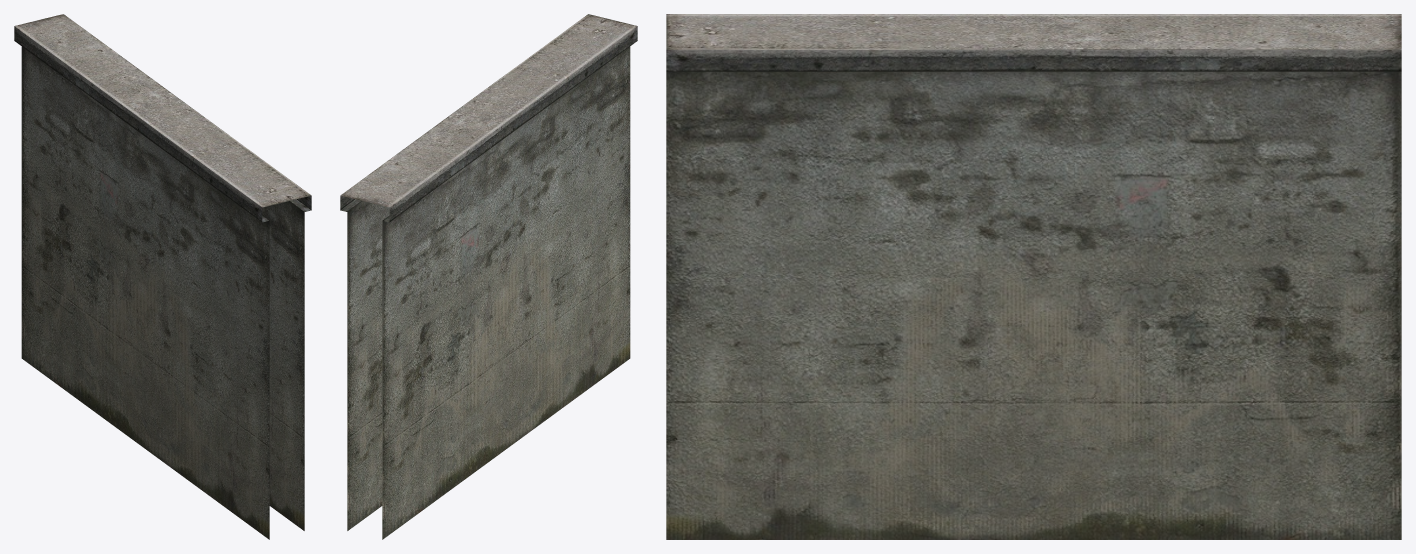
The model's file is Concrete_fence_v1_s2.glb.
3 renders of one model, left to right at view 1: azimuth 30°, elevation 25°; view 2: azimuth 150°, elevation 25°; view 3: azimuth 270°, elevation 25°, orthographic. The views are drawn at different scales.
Visible parts, largest first — view 1: Concrete_fence_v1_s2; view 2: Concrete_fence_v1_s2; view 3: Concrete_fence_v1_s2.
Boxes of the visible parts, left/top/right/bottom form: Concrete_fence_v1_s2: left=14, top=14, right=311, bottom=539; Concrete_fence_v1_s2: left=340, top=14, right=637, bottom=539; Concrete_fence_v1_s2: left=666, top=14, right=1401, bottom=539.
Size of the model in its own units: 0.4622 by 2.99 by 4.03.
1 material, 1 textured.
